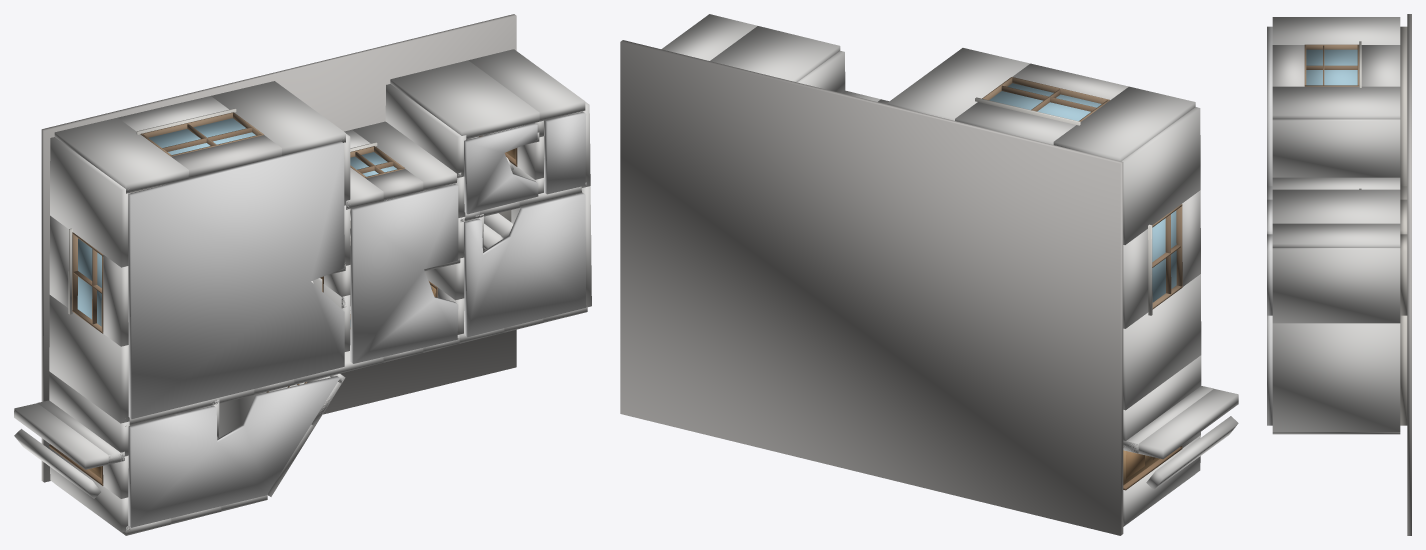
Rendered from media_1792882050751_732ac7ab_scene.glb.
3 views of the same model, side by side, from view 1: azimuth 30°, elevation 25°; view 2: azimuth 150°, elevation 25°; view 3: azimuth 270°, elevation 25° (orthographic). The views are drawn at different scales.
Visible parts, largest first — view 1: Ceilings, Walls, Plinth, Lintels, WindowGlasses, WindowFrames, WindowMullions, WindowSills; view 2: Plinth, Walls, Lintels, WindowGlasses, WindowFrames, WindowMullions, WindowSills; view 3: Walls, Floors, Plinth, Ceilings, WindowGlasses, Lintels, WindowFrames, WindowMullions.
Part boxes in pixels (bbox=[...]): Ceilings: bbox=[128, 111, 586, 527]; Walls: bbox=[14, 49, 591, 535]; Plinth: bbox=[41, 14, 516, 482]; Lintels: bbox=[103, 135, 543, 524]; WindowGlasses: bbox=[77, 118, 397, 326]; WindowFrames: bbox=[72, 112, 405, 392]; WindowMullions: bbox=[73, 124, 393, 387]; WindowSills: bbox=[68, 108, 377, 314]; Plinth: bbox=[620, 40, 1123, 535]; Walls: bbox=[661, 14, 1238, 526]; Lintels: bbox=[878, 63, 1200, 448]; WindowGlasses: bbox=[989, 83, 1176, 302]; WindowFrames: bbox=[982, 77, 1182, 309]; WindowMullions: bbox=[1001, 85, 1180, 293]; WindowSills: bbox=[975, 97, 1152, 315]; Walls: bbox=[1272, 17, 1400, 434]; Floors: bbox=[1400, 26, 1407, 425]; Plinth: bbox=[1407, 14, 1411, 535]; Ceilings: bbox=[1267, 26, 1272, 425]; WindowGlasses: bbox=[1306, 49, 1357, 85]; Lintels: bbox=[1272, 45, 1304, 86]; WindowFrames: bbox=[1304, 44, 1359, 86]; WindowMullions: bbox=[1306, 45, 1357, 85].
Bounding box in the file's own units: 11.48 × 7.71 × 3.17.
